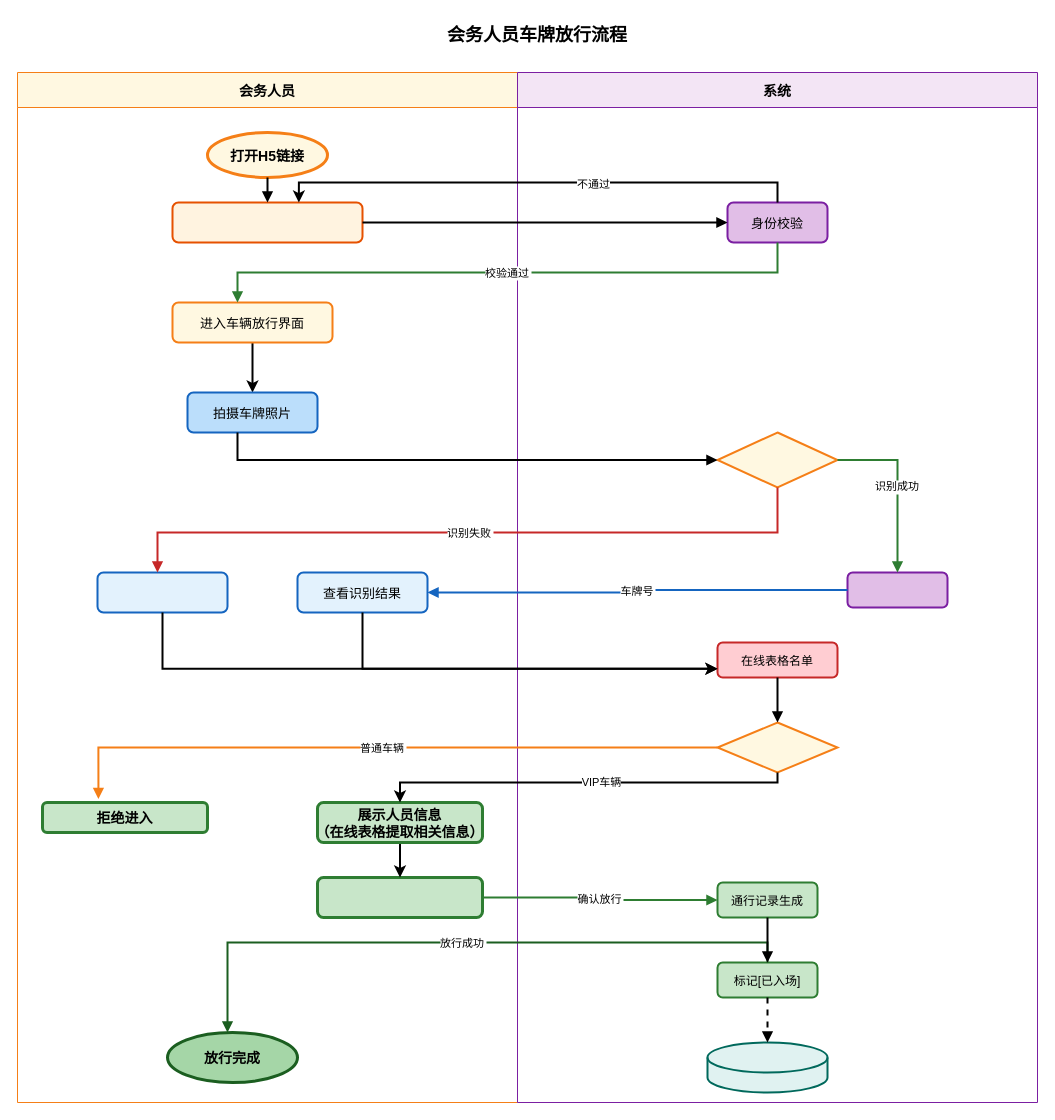
The diagram is 1055 pixels wide and 1120 high, and some of its shapes have lost their labels. Here are the shapes that lost their labels. From the top down, the centre of each, then its label:
the point at 267,222: 输入手机号码+验证码/密码
the point at 777,459: OCR识别
the point at 162,592: 手动录入车牌信息
the point at 897,589: 车牌号提取
the point at 777,747: 匹配结果判断
the point at 400,897: 点击确认放行
the point at 767,1067: 通行台账表格
